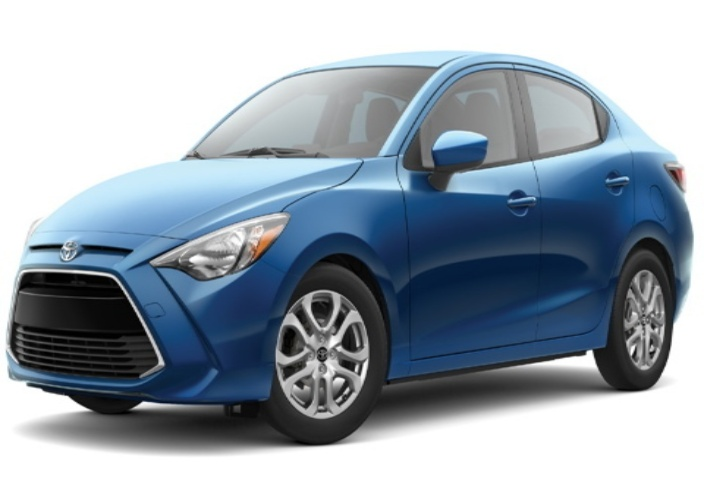car: (14, 22, 704, 436)
